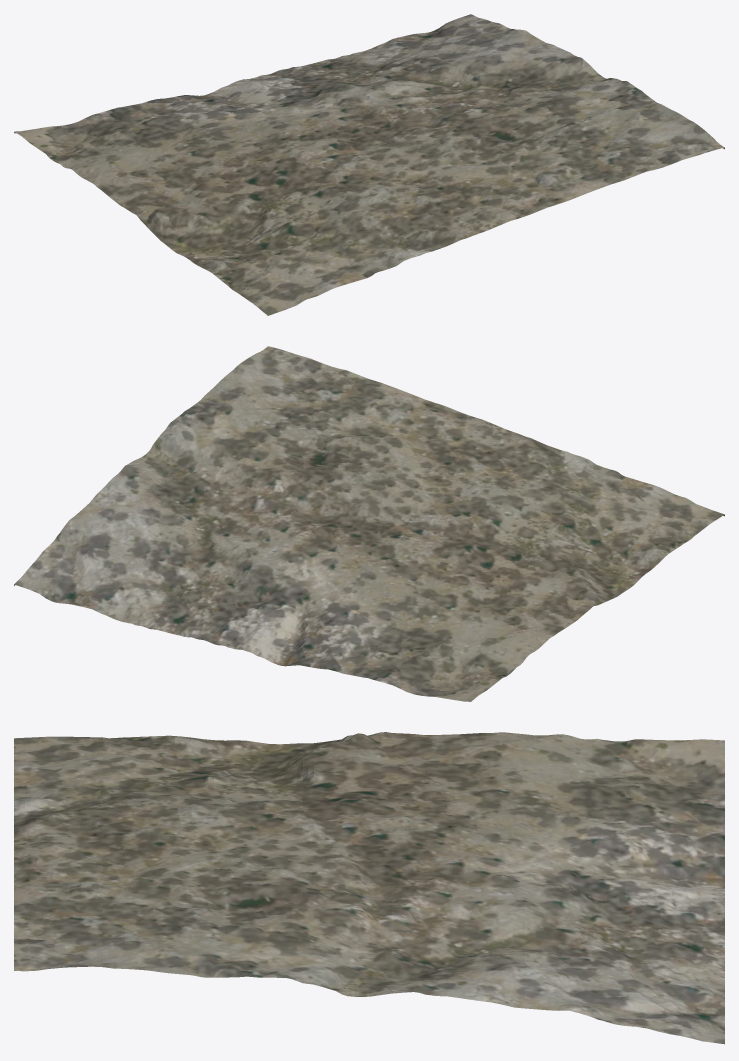
3 renders of one model, top to bottom at view 1: azimuth 30°, elevation 25°; view 2: azimuth 150°, elevation 25°; view 3: azimuth 270°, elevation 25°, orthographic. The views are drawn at different scales.
Size of the model in its own units: 250 by 38.4 by 241.
1 material, 1 textured.
